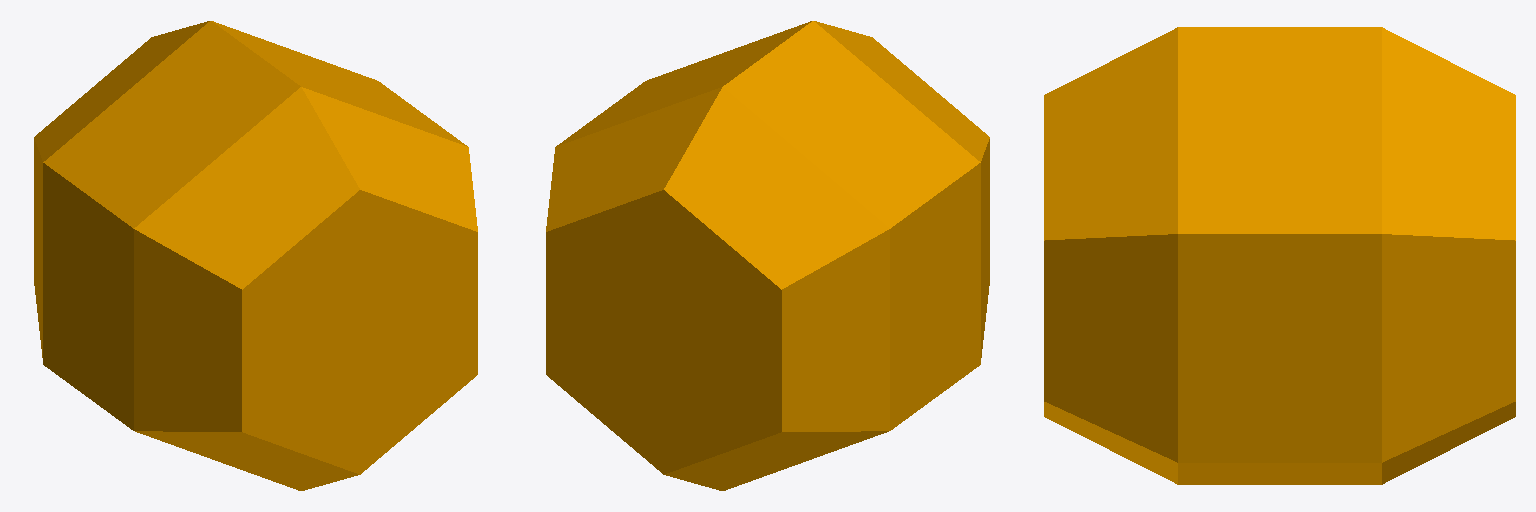
robot.urdf — avocado_seed:
<?xml version="1.0"?>
<robot name="avocado_seed">
  <link name="seed">
    <inertial>
        <origin rpy="0 0 0" xyz="0 0 0"/>
        <mass value="0.005"/>
        <inertia ixx="1.9e-5" ixy="0" ixz="0" iyy="6.8e-6" iyz="0" izz="1.2e-5"/>
    </inertial>
    <visual>
      <geometry>
        <mesh filename="seed.obj"/>
      </geometry>
    </visual>
    <collision>
      <geometry>
        <mesh filename="seed.obj"/>
      </geometry>
      <surface>
           <bounce restitution_coefficient = "0.1"/>
      </surface>
    </collision>
  </link>
</robot>

--- Render facts (derived) ---
The picture shows the robot from 3 angles, left to right: view 1: azimuth 30°, elevation 25°; view 2: azimuth 150°, elevation 25°; view 3: azimuth 270°, elevation 25°; orthographic projection.
Model avocado_seed with 1 links and 0 joints (none), rooted at seed, posed every joint at zero.
Links seen in each view (by area): view 1: seed; view 2: seed; view 3: seed.
Boxes of the visible links, x1,y1,x2,y2 form: seed: (34, 21, 477, 490); seed: (546, 21, 989, 490); seed: (1044, 27, 1515, 484).
Size in the robot's own frame: 0.0571 by 0.0615 by 0.0659 metres.
Meshes: 1 distinct files referenced, 1 mesh visuals loaded (1 OBJ).
